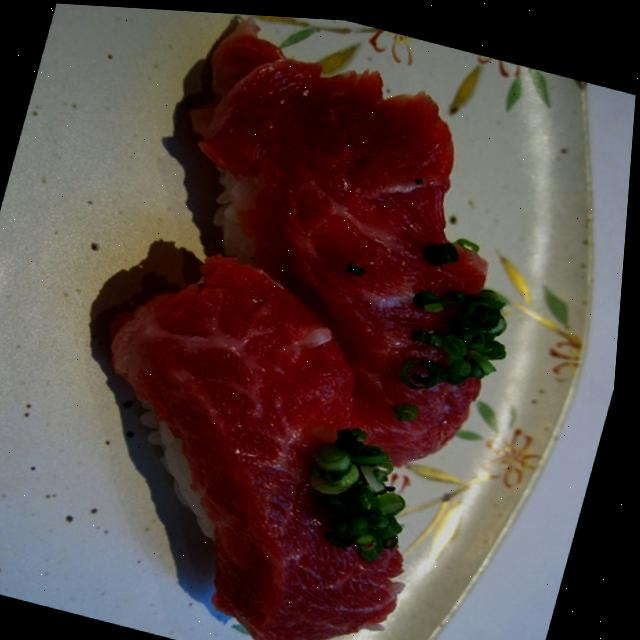刺身生食: (27, 9, 603, 640)
